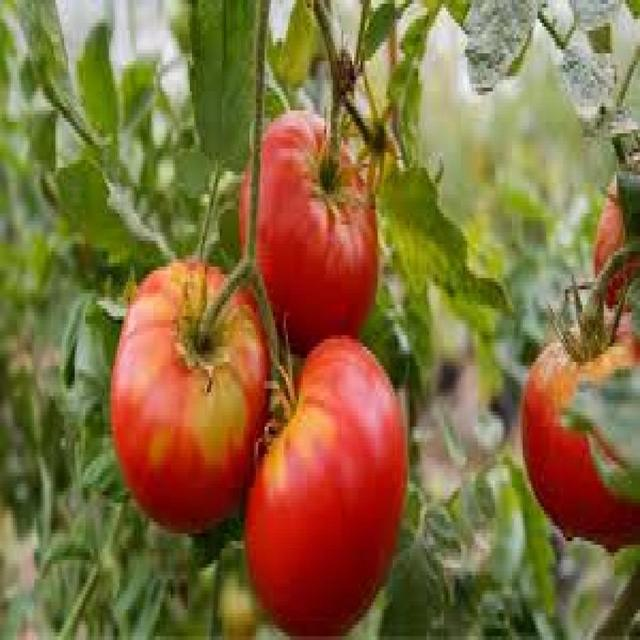Spotted wilt Virus Fruit: (80, 153, 386, 324)
